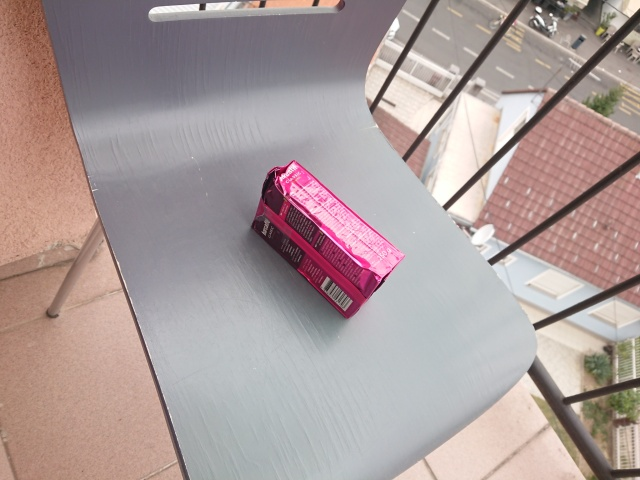Barcaffe Classic Original 225g: (248, 157, 407, 321)
